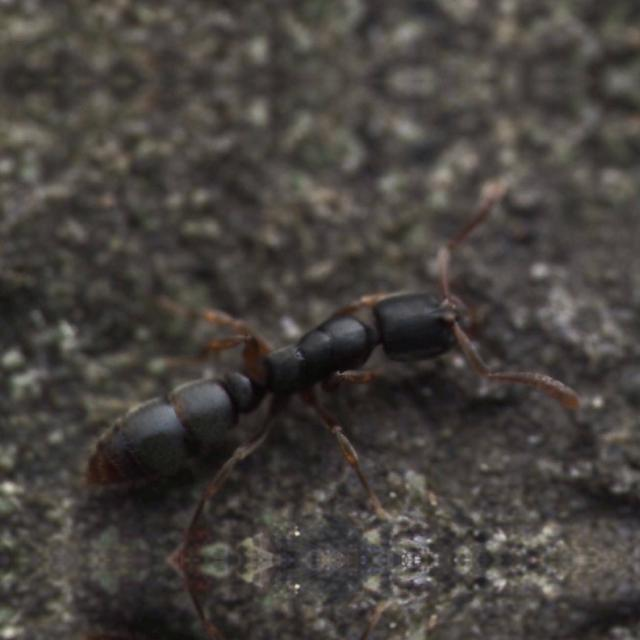Ponera: (61, 198, 538, 540)
